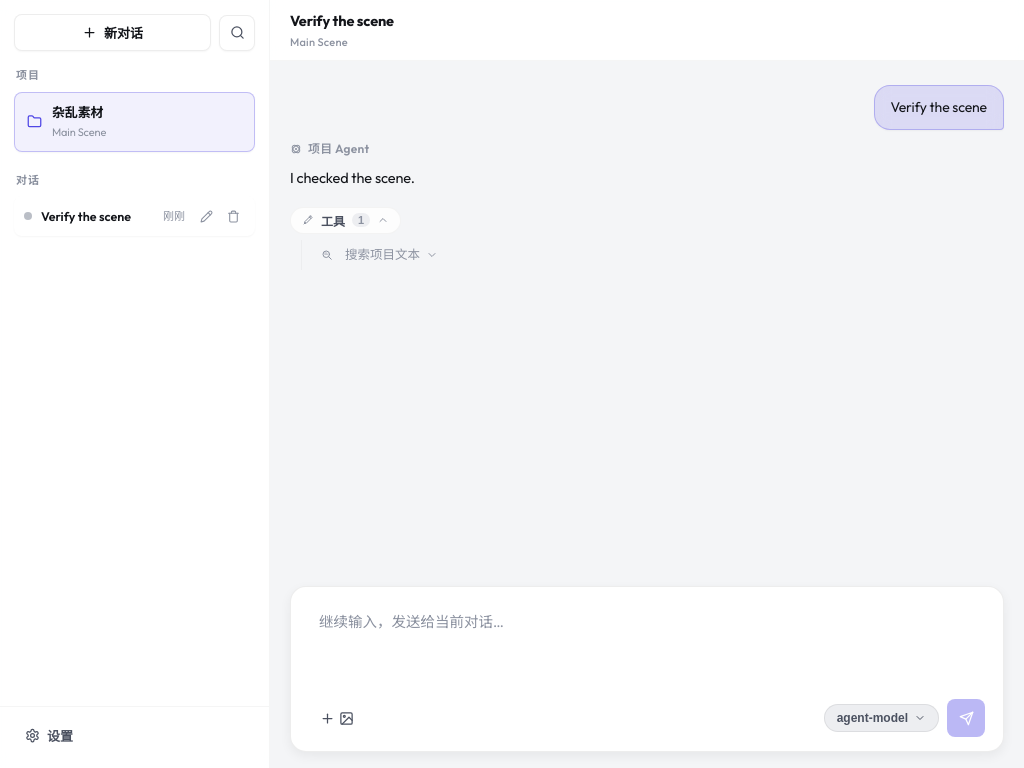
it: AgentWindow conversation thread › renders legacy json activity content as readable lines instead of raw JSON
Click the button "搜索项目文本" at [392, 255], box 341,244 -> 442,266
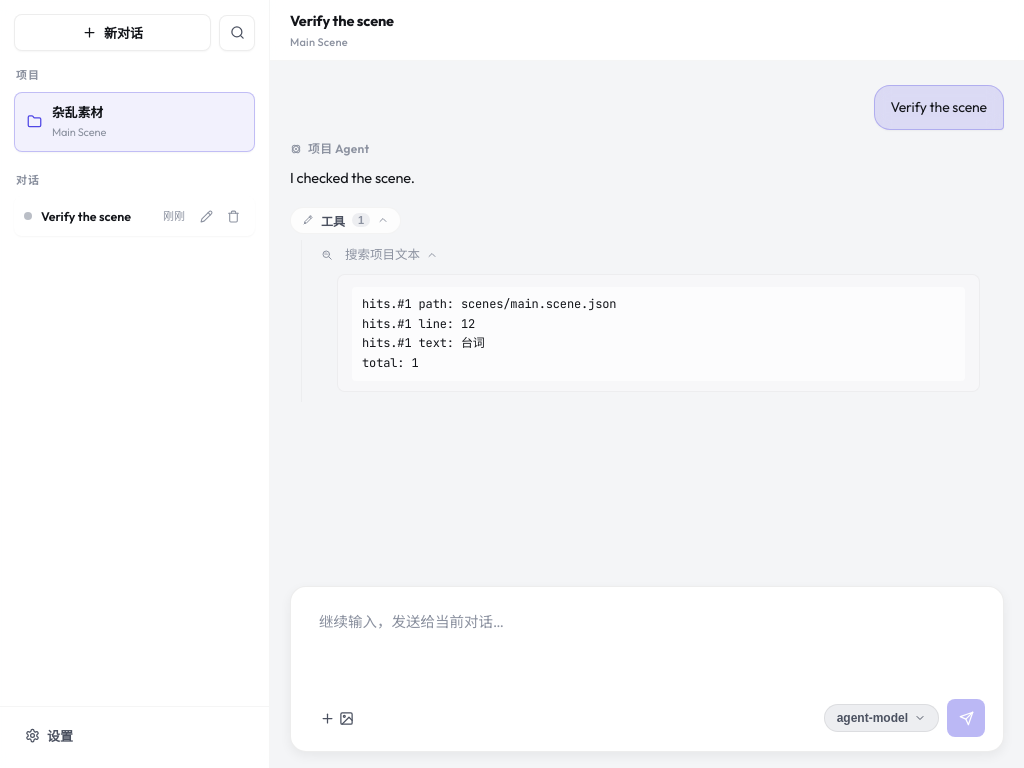
Check: the text "#1 text: 台词" is shown, box 362,296 -> 616,371
